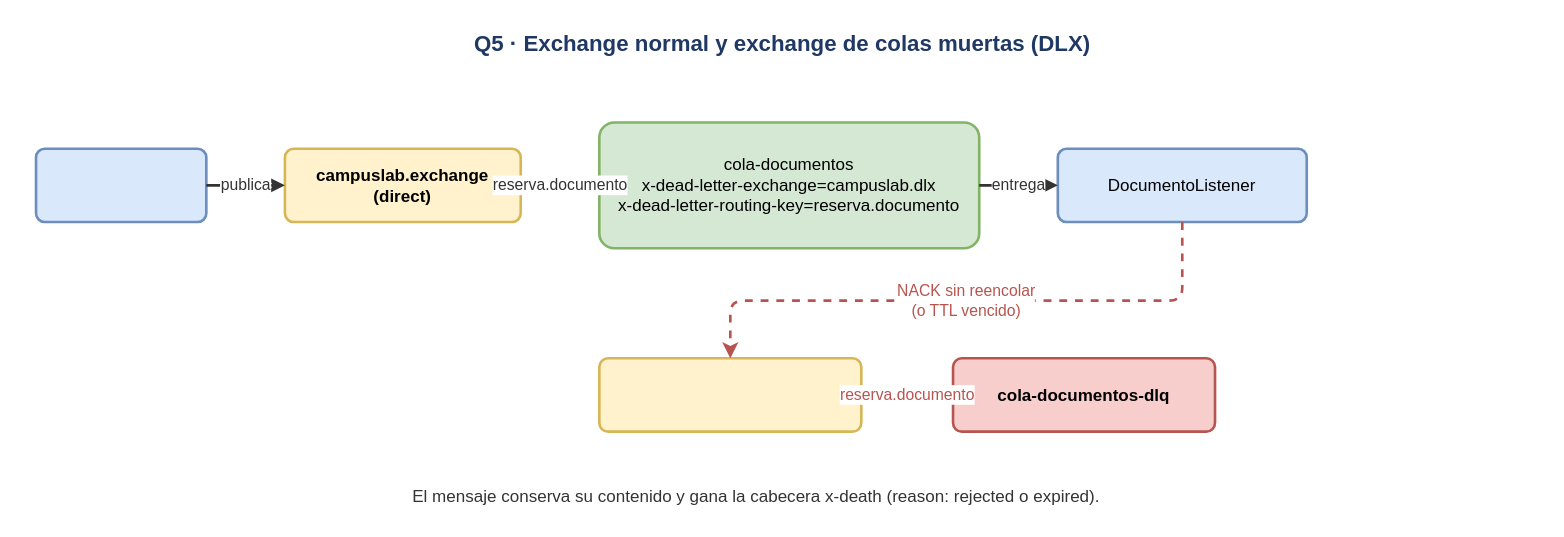
This 1564x537 diagram has some shape labels left out. The shapes that lost their labels are listed below. From the top down, each one's centre as x and y in pixels, then its label:
point 120,185: Publicador
point 729,394: campuslab.dlx (direct)
